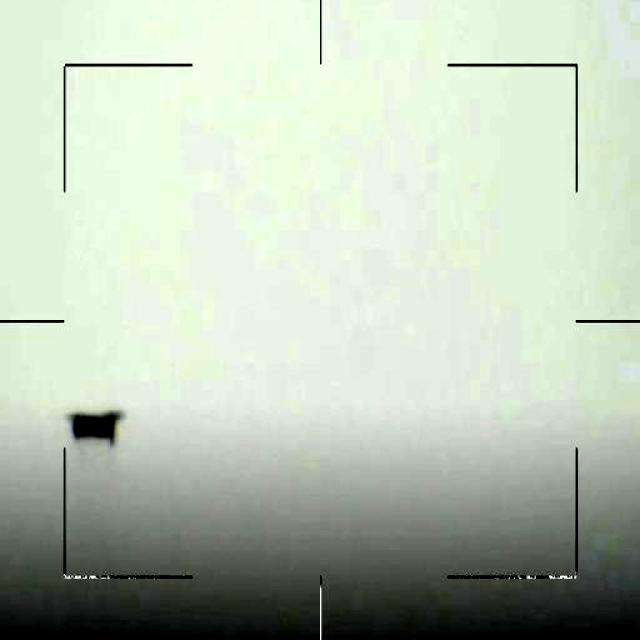bird: (70, 409, 122, 449)
